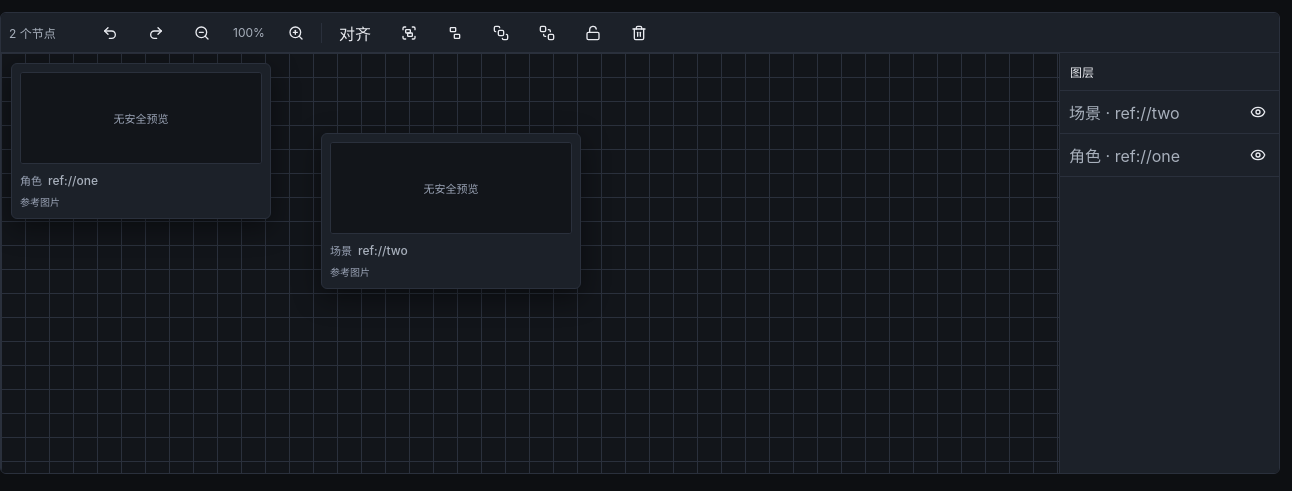
Test: ImageInfiniteCanvas › selects a layer and deletes the selected unlocked node with the keyboard
Click the button "角色 · ref://one".
click(1148, 155)  # box [1060, 134, 1237, 176]
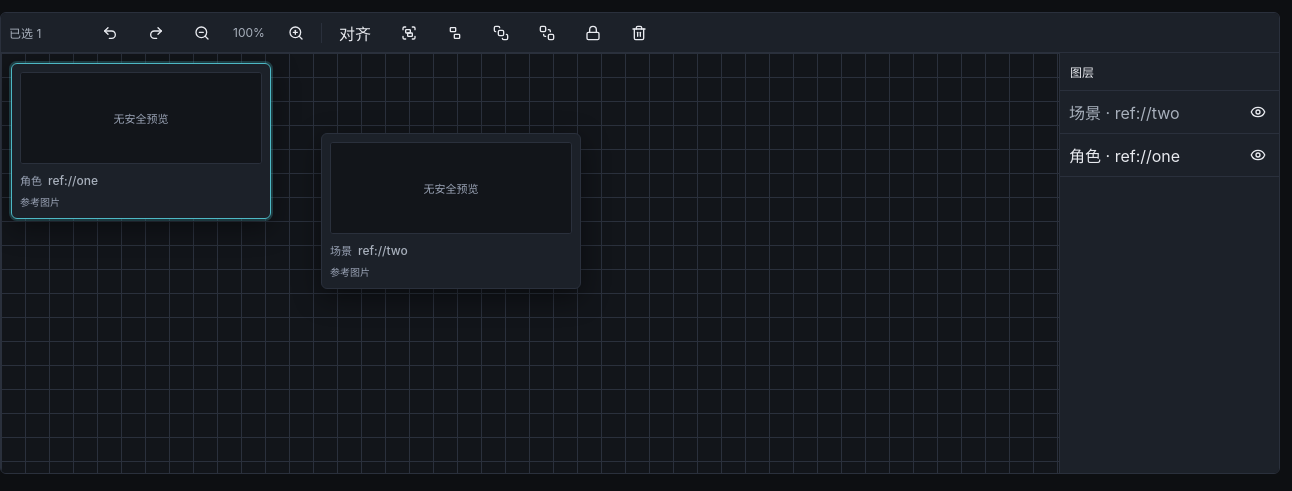
Press Delete in the element named "图片无限画布"
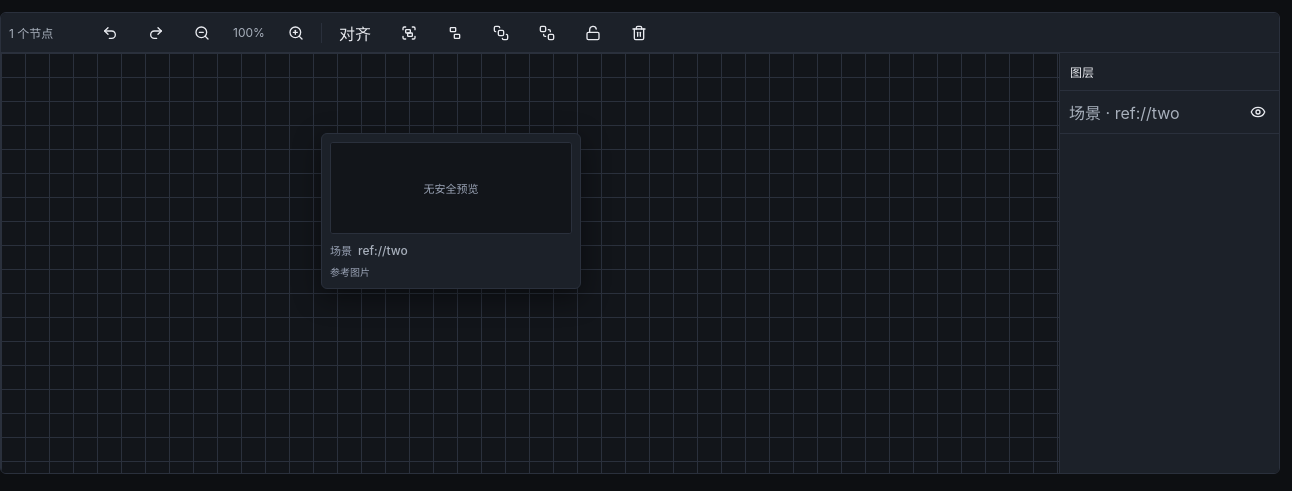
expect the button "场景 · ref://two" is shown: met, box [1060, 91, 1237, 133]
expect the button "角色 · ref://one" is gone: met
